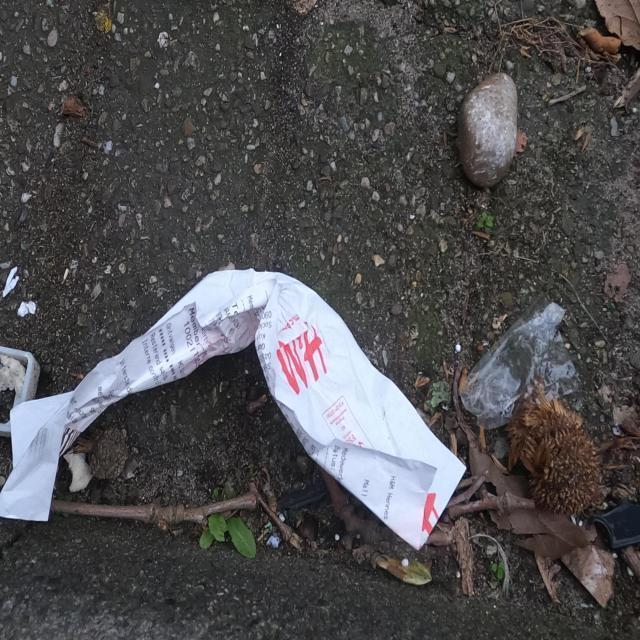Paper: (0, 266, 468, 558)
Plastic: (458, 291, 582, 433)
